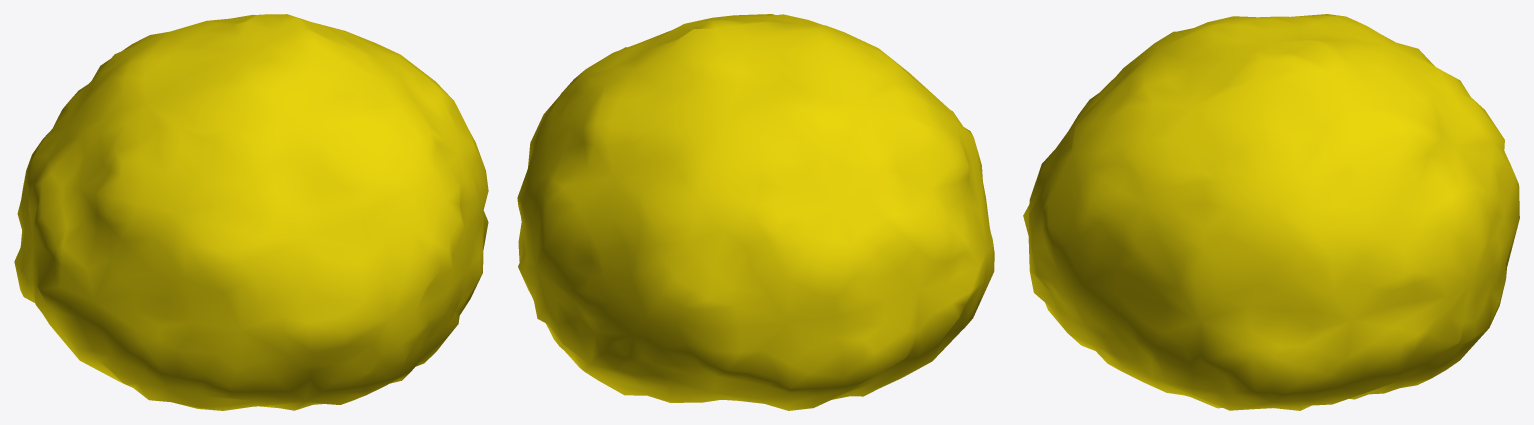
Rendered from copa_1.fbx.
3 renders of one model, left to right at view 1: azimuth 30°, elevation 25°; view 2: azimuth 150°, elevation 25°; view 3: azimuth 270°, elevation 25°, orthographic.
Visible parts, largest first — view 1: copa_ipe.002; view 2: copa_ipe.002; view 3: copa_ipe.002.
Boxes of the visible parts, bbox=[...] form: copa_ipe.002: bbox=[14, 14, 488, 410]; copa_ipe.002: bbox=[517, 14, 994, 410]; copa_ipe.002: bbox=[1023, 14, 1519, 410].
Size of the model in its own units: 13.55 by 13.48 by 10.01.
